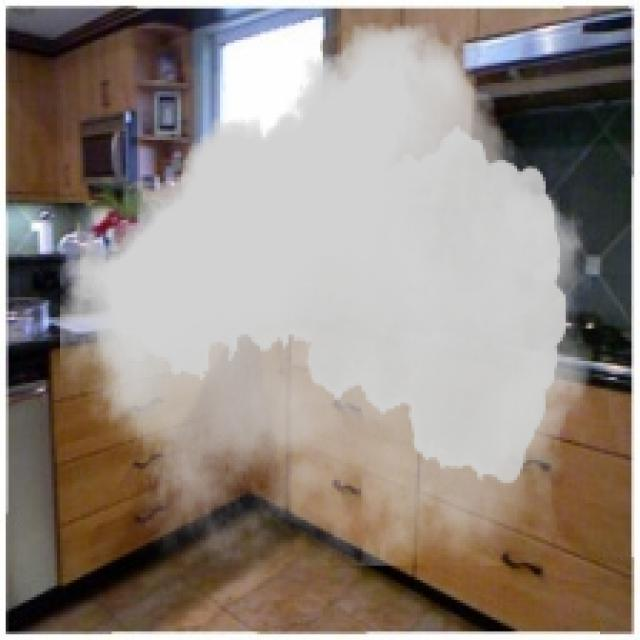smoke: (60, 23, 591, 566)
